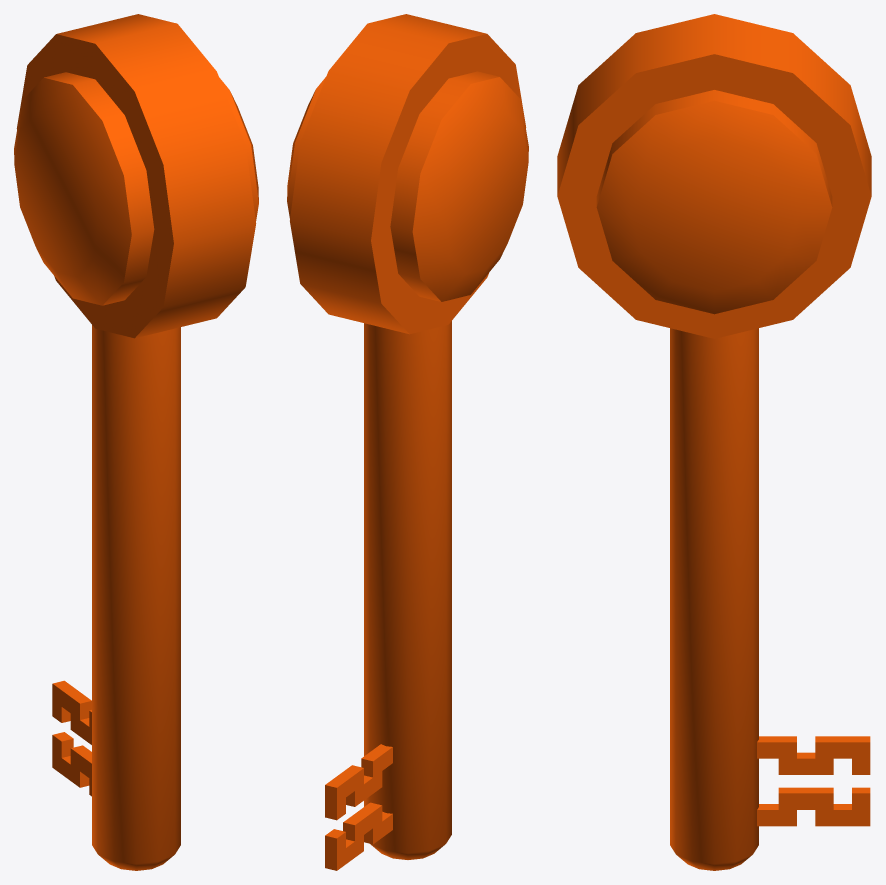
File: DoorKey.fbx
The picture shows the model from 3 angles, left to right: view 1: azimuth 30°, elevation 25°; view 2: azimuth 150°, elevation 25°; view 3: azimuth 270°, elevation 25°; orthographic projection.
Visible parts, largest first — view 1: Cylinder002; view 2: Cylinder002; view 3: Cylinder002.
Part boxes in pixels (x1,y1,x2,y2): Cylinder002: (14, 14, 258, 870); Cylinder002: (287, 14, 528, 870); Cylinder002: (557, 14, 871, 870).
Bounding box in the file's own units: 31.41 × 156 × 53.41.
